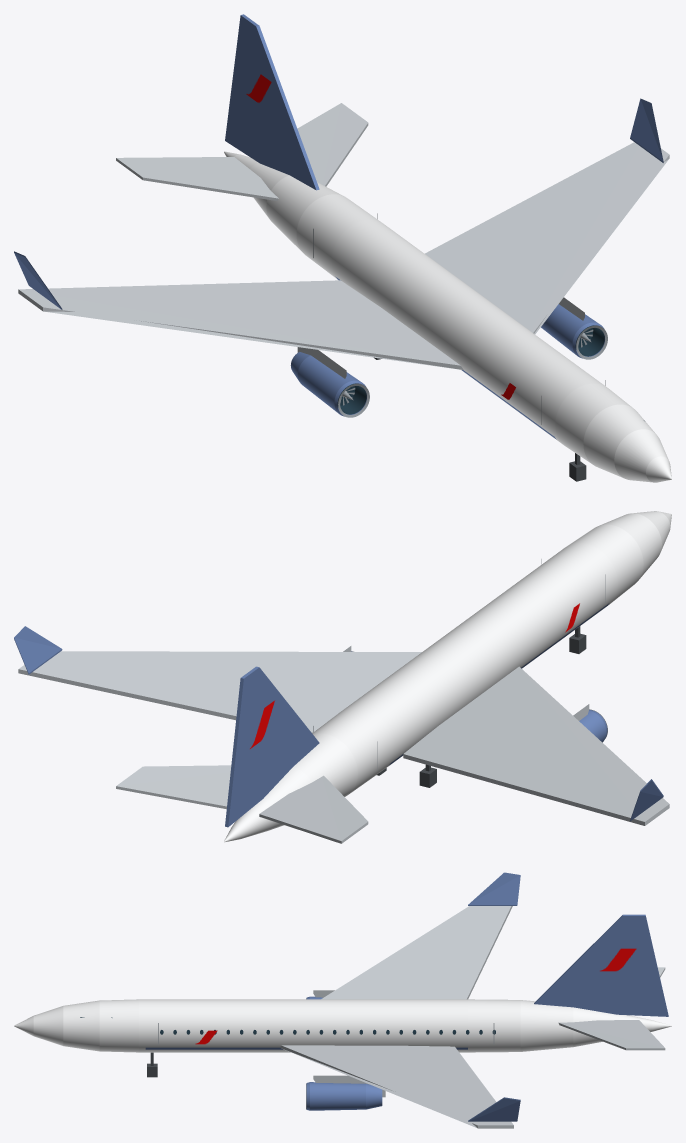
The model's file is b757-AFR-v3.gltf.
The picture shows the model from 3 angles, top to bottom: view 1: azimuth 30°, elevation 25°; view 2: azimuth 150°, elevation 25°; view 3: azimuth 270°, elevation 25°; orthographic projection. The views are drawn at different scales.
Parts seen in each view (by area): view 1: object 1; view 2: object 1, Gear; view 3: object 1.
Boxes of the visible parts, bbox=[...] form: object 1: bbox=[14, 14, 671, 482]; object 1: bbox=[14, 511, 671, 843]; Gear: bbox=[377, 626, 586, 787]; object 1: bbox=[14, 872, 671, 1128].
Bounding box in the file's own units: 38 × 12.62 × 47.
8 materials, 1 textured.
